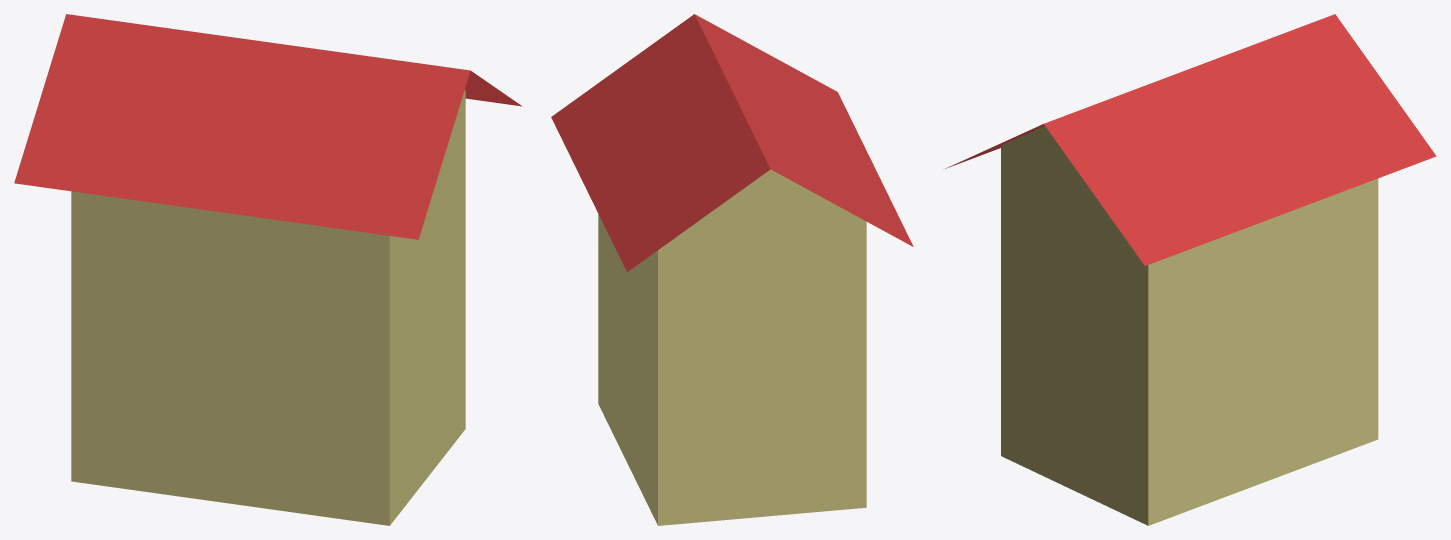
3 views of the same model, side by side, from view 1: azimuth 30°, elevation 25°; view 2: azimuth 150°, elevation 25°; view 3: azimuth 270°, elevation 25° (orthographic). The views are drawn at different scales.
Bounding box in the file's own units: 8.81 × 8.94 × 7.56.
